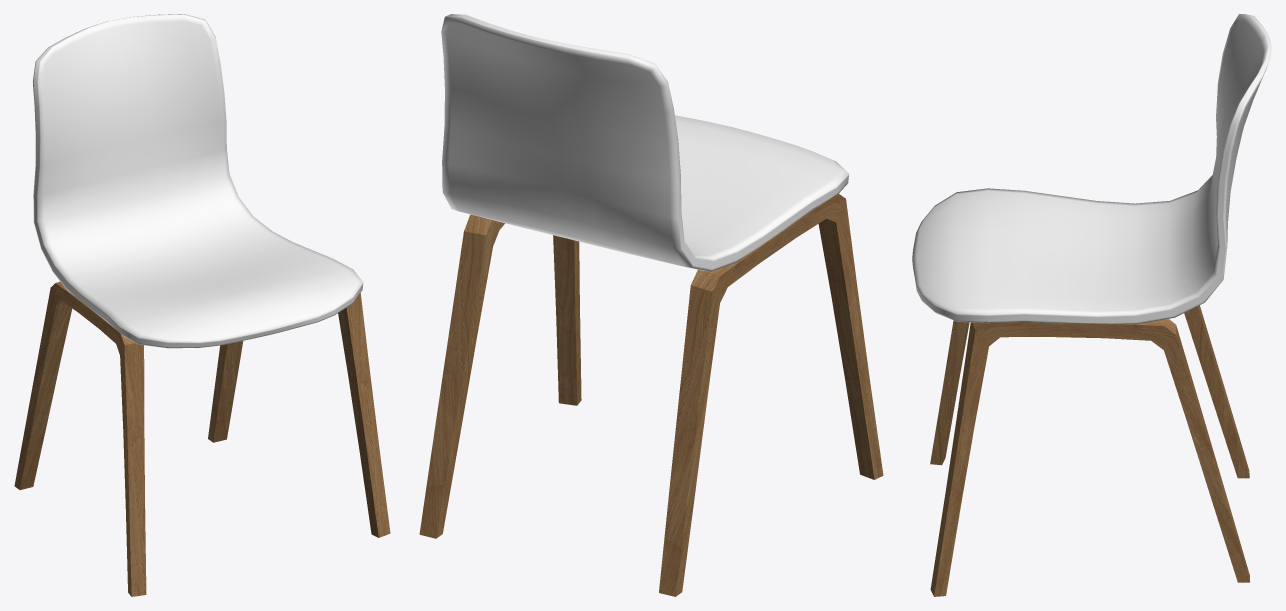
The model's file is Chair.FBX.
The picture shows the model from 3 angles, left to right: view 1: azimuth 30°, elevation 25°; view 2: azimuth 150°, elevation 25°; view 3: azimuth 270°, elevation 25°; orthographic projection. The views are drawn at different scales.
Visible parts, largest first — view 1: chair; view 2: chair; view 3: chair.
Boxes of the visible parts, box(x1,y1,x2,y2) form: chair: box(14, 14, 390, 596); chair: box(419, 14, 883, 596); chair: box(912, 14, 1271, 596).
Bounding box in the file's own units: 58.31 × 93.31 × 63.32.
2 materials, 2 textured.
